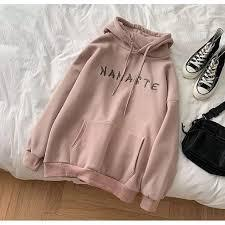sweater: (36, 31, 174, 194)
